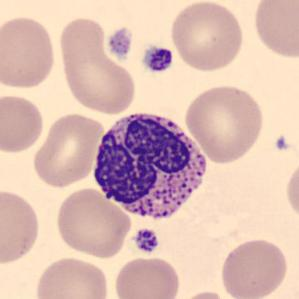Basophil: (88, 106, 213, 227)
Platelets: (104, 26, 134, 61), (140, 44, 175, 74), (133, 228, 160, 254), (275, 133, 293, 152)
RBC: (56, 15, 138, 116), (182, 82, 266, 165), (53, 185, 133, 260), (30, 110, 104, 189), (167, 0, 245, 73), (217, 236, 290, 299), (0, 13, 58, 91), (0, 185, 43, 268), (32, 254, 110, 299), (111, 254, 181, 299), (250, 0, 299, 62), (0, 91, 46, 156), (283, 157, 299, 226), (175, 288, 235, 299)
